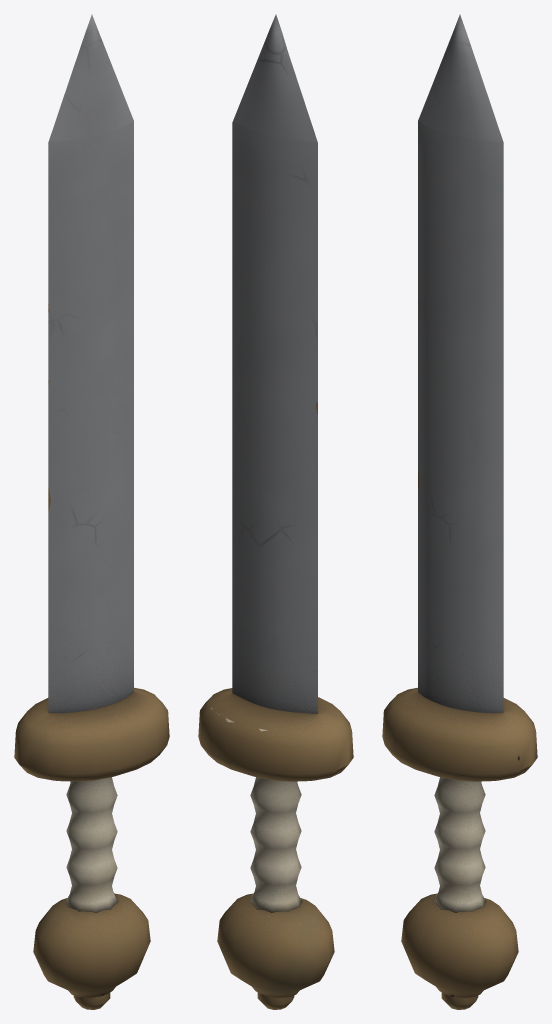
The model's file is short-sword.glb.
3 views of the same model, side by side, from view 1: azimuth 30°, elevation 25°; view 2: azimuth 150°, elevation 25°; view 3: azimuth 330°, elevation 25° (orthographic).
Parts seen in each view (by area): view 1: short-sword; view 2: short-sword; view 3: short-sword.
Part boxes in pixels (box(x1,y1,x2,y2)): short-sword: box(14, 14, 169, 1009); short-sword: box(198, 14, 353, 1009); short-sword: box(382, 14, 537, 1009).
Size of the model in its own units: 0.23 by 1.51 by 0.156.
1 material, 1 textured.
